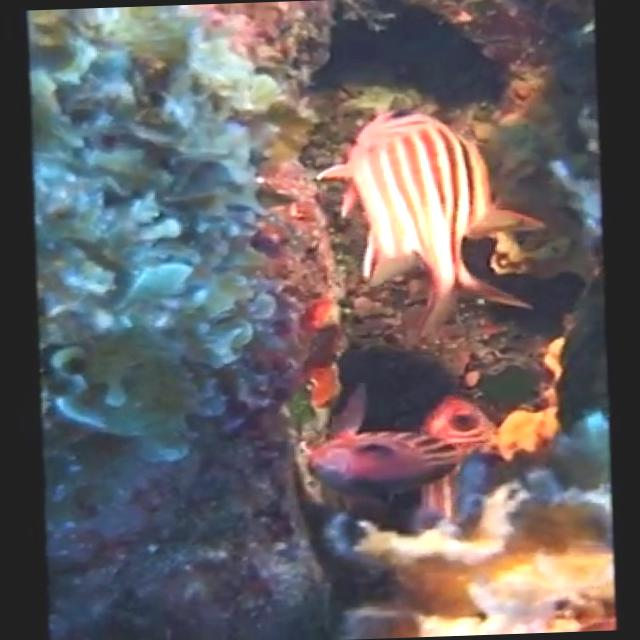Asker Baligi: (311, 102, 550, 344)
